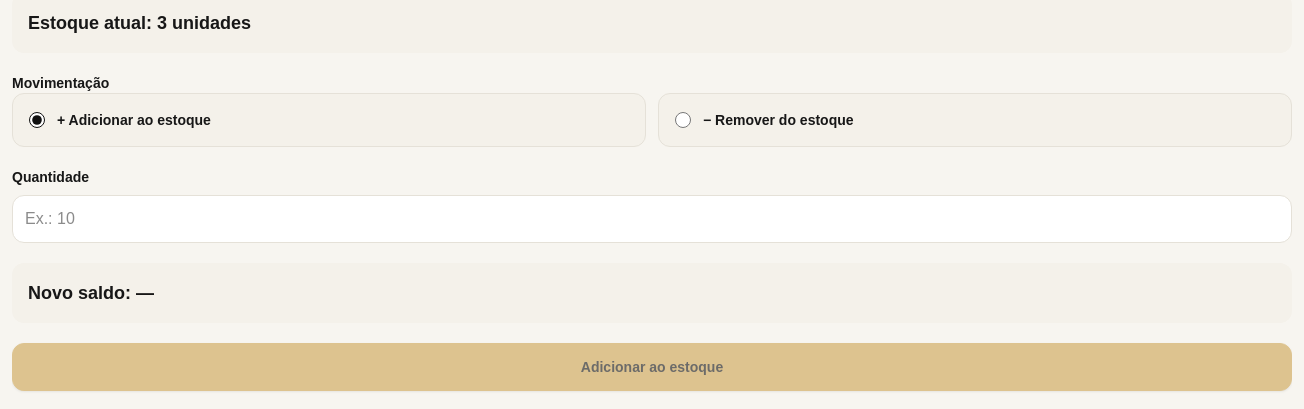
StockAdjustmentForm › previews remove 2 from three units
Click the radio button labelled "− Remover do estoque" at (683, 120), box left=675, top=112, right=691, bottom=128
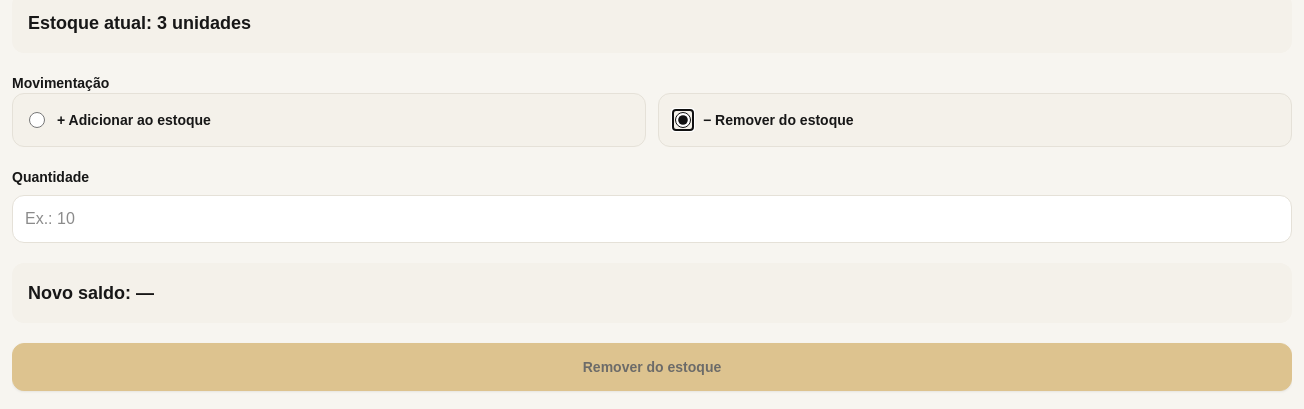
Type "2" into the field labelled "Quantidade" at (652, 219), box left=12, top=195, right=1292, bottom=243
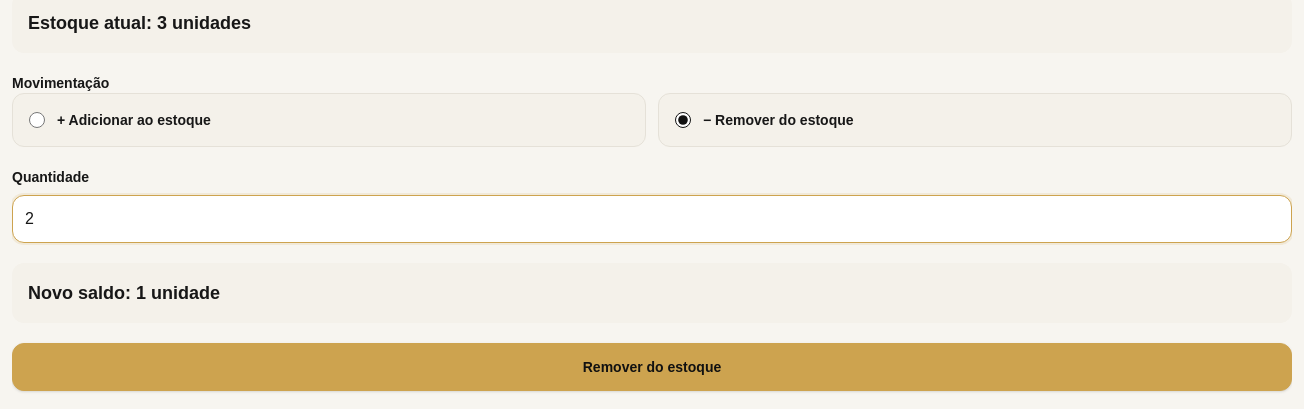
expect the message "Novo saldo" reads "Novo saldo: 1 unidade": met, box left=12, top=263, right=1292, bottom=323
expect the button "Remover do estoque" is enabled: met, box left=12, top=343, right=1292, bottom=391
